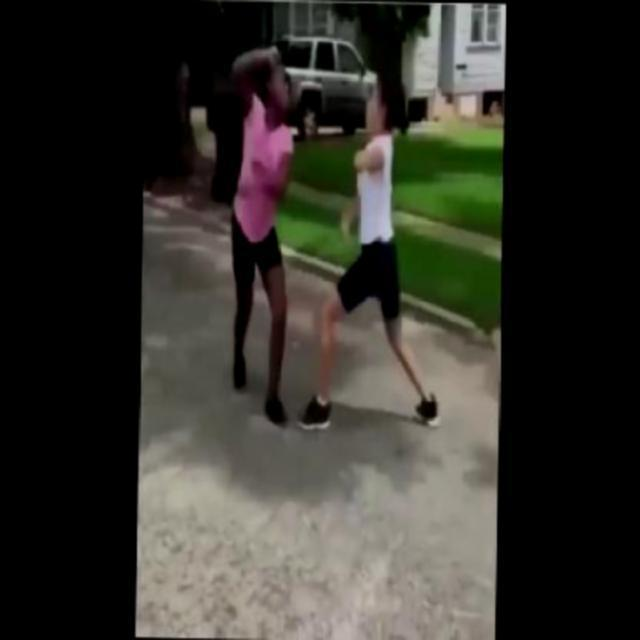fight: (219, 41, 444, 442)
